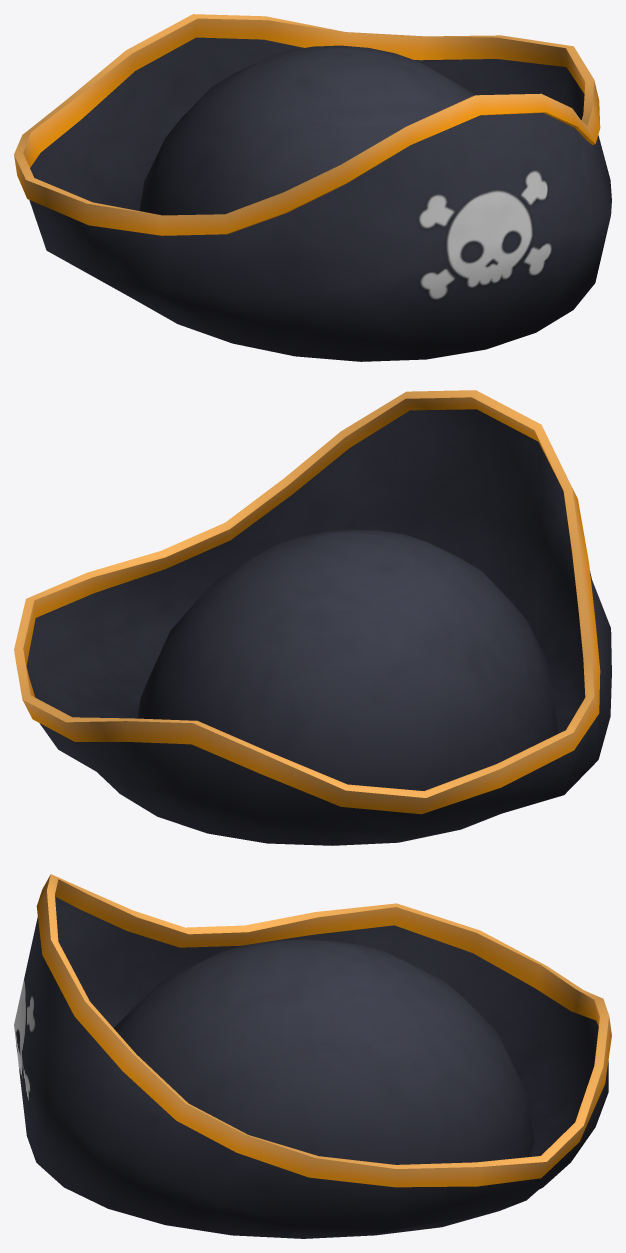
Rendered from PirateHat.FBX.
3 views of the same model, one above another, from view 1: azimuth 30°, elevation 25°; view 2: azimuth 150°, elevation 25°; view 3: azimuth 270°, elevation 25° (orthographic).
Visible parts, largest first — view 1: PirateHat; view 2: PirateHat; view 3: PirateHat.
Part boxes in pixels (<box>): PirateHat: <box>14,14,611,361</box>; PirateHat: <box>14,390,611,845</box>; PirateHat: <box>14,874,611,1238</box>.
Bounding box in the file's own units: 54.24 × 25.22 × 51.59.
1 material, 1 textured.
